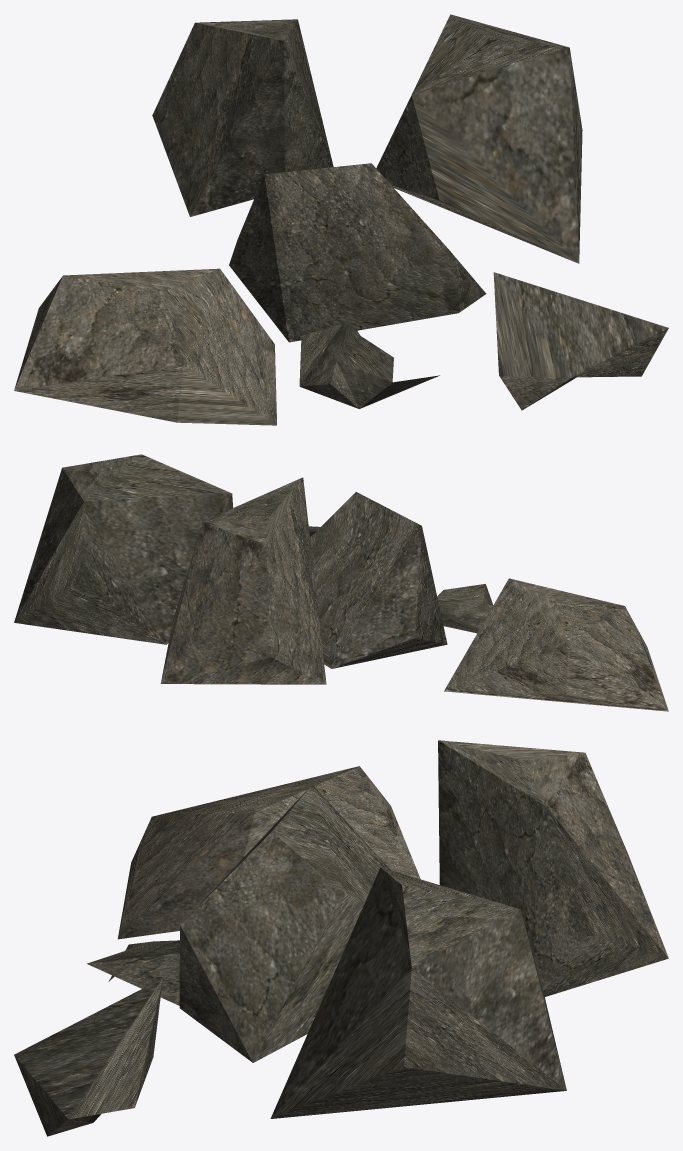
Rendered from mm9_deco_stonedebris05lsp350.glb.
The picture shows the model from 3 angles, top to bottom: view 1: azimuth 30°, elevation 25°; view 2: azimuth 150°, elevation 25°; view 3: azimuth 270°, elevation 25°; orthographic projection. The views are drawn at different scales.
Visible parts, largest first — view 1: Stonedebris05lsp350; view 2: Stonedebris05lsp350; view 3: Stonedebris05lsp350.
Part boxes in pixels (x1=…): Stonedebris05lsp350: x1=14, y1=14, x2=668, y2=425; Stonedebris05lsp350: x1=14, y1=454, x2=668, y2=711; Stonedebris05lsp350: x1=14, y1=740, x2=668, y2=1136.
Bounding box in the file's own units: 2.38 × 0.9426 × 1.91.
1 material, 1 textured.
